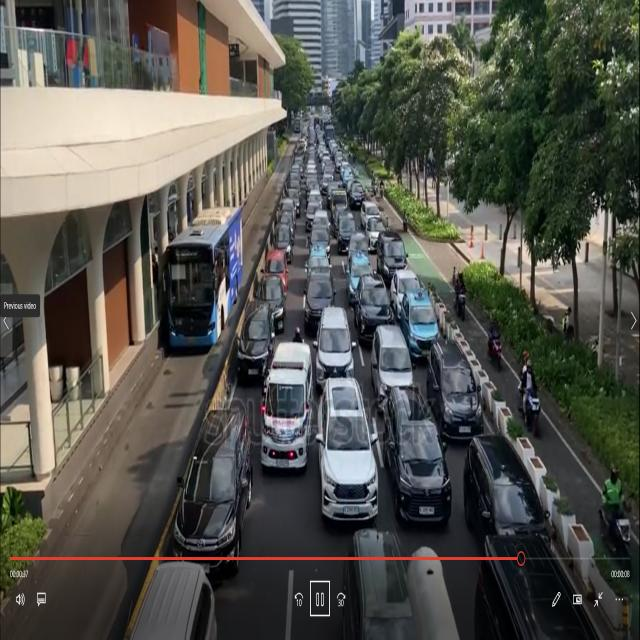Ambulance: (261, 332, 312, 476)
